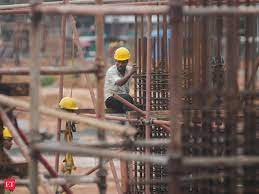arm: (107, 65, 135, 87)
face: (113, 54, 128, 70)
helmet: (57, 95, 83, 110), (111, 43, 130, 63)
human: (102, 42, 140, 115)
nogoggle: (115, 58, 127, 65)
novest: (110, 66, 134, 96)
